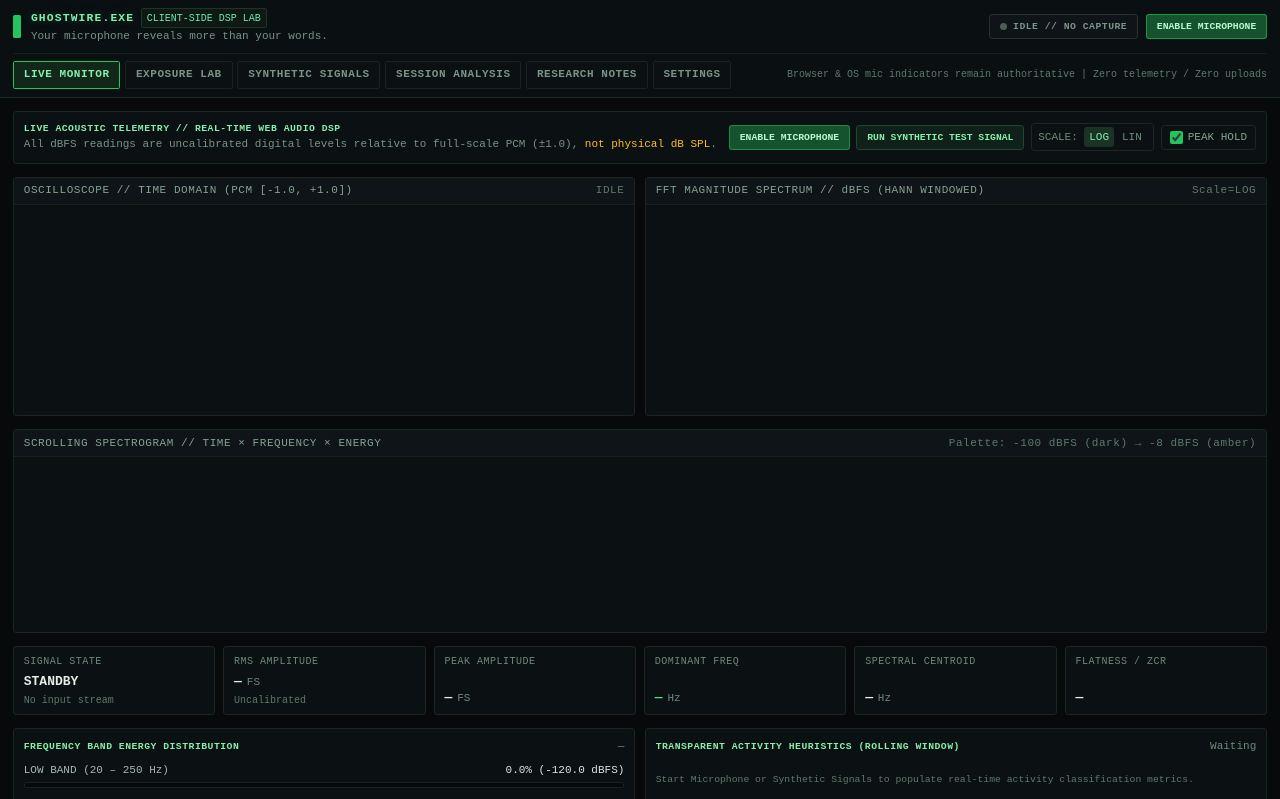
Test: GHOSTWIRE.EXE Privacy, Microphone Lifecycle & Synthetic Integration › handles microphone permission denial gracefully without entering active state
What coordinates should you click on to do the following:
click the button "ENABLE MICROPHONE" next to "IDLE // NO CAPTURE"
I would click on:
 (1206, 26)
Its box is left=1146, top=14, right=1267, bottom=39.
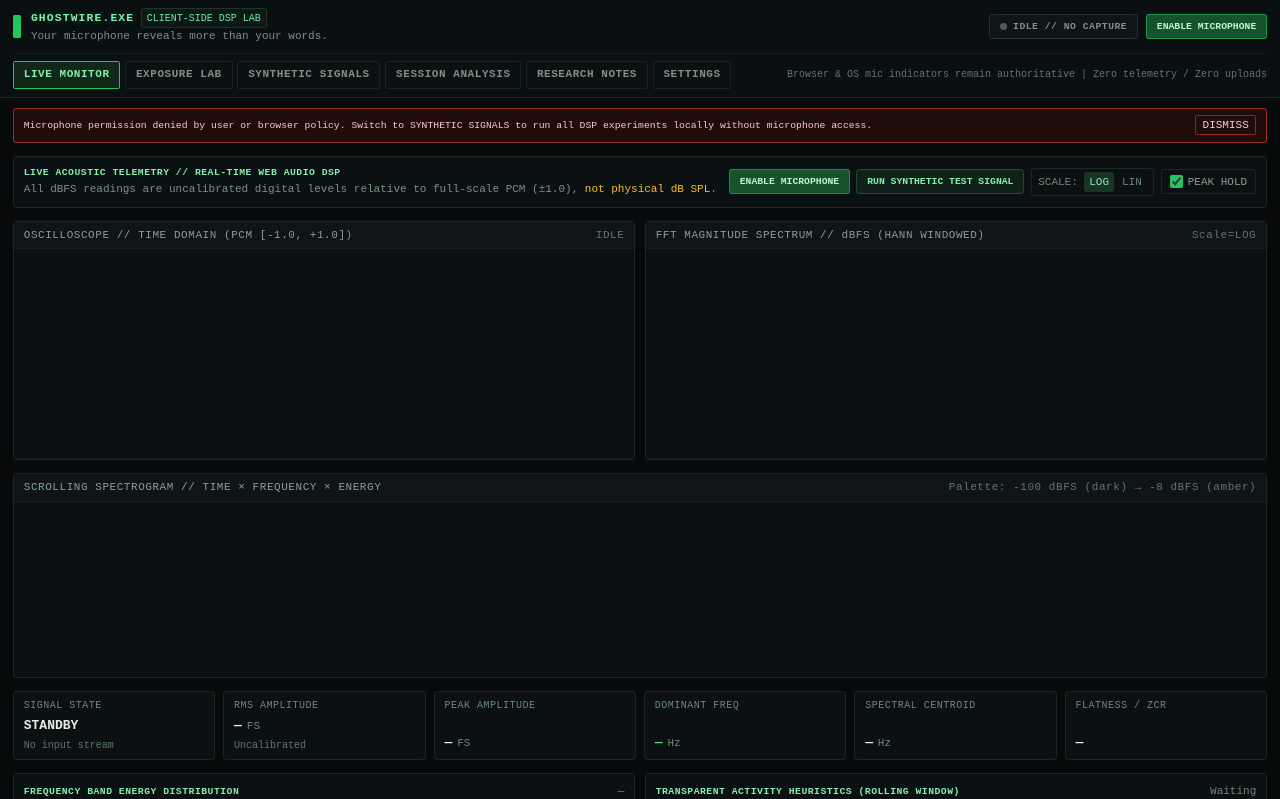
Expected: the text "IDLE // NO CAPTURE" is shown, left=989, top=14, right=1138, bottom=39
Expected: the 2nd message shows "permission denied", left=24, top=120, right=872, bottom=131
